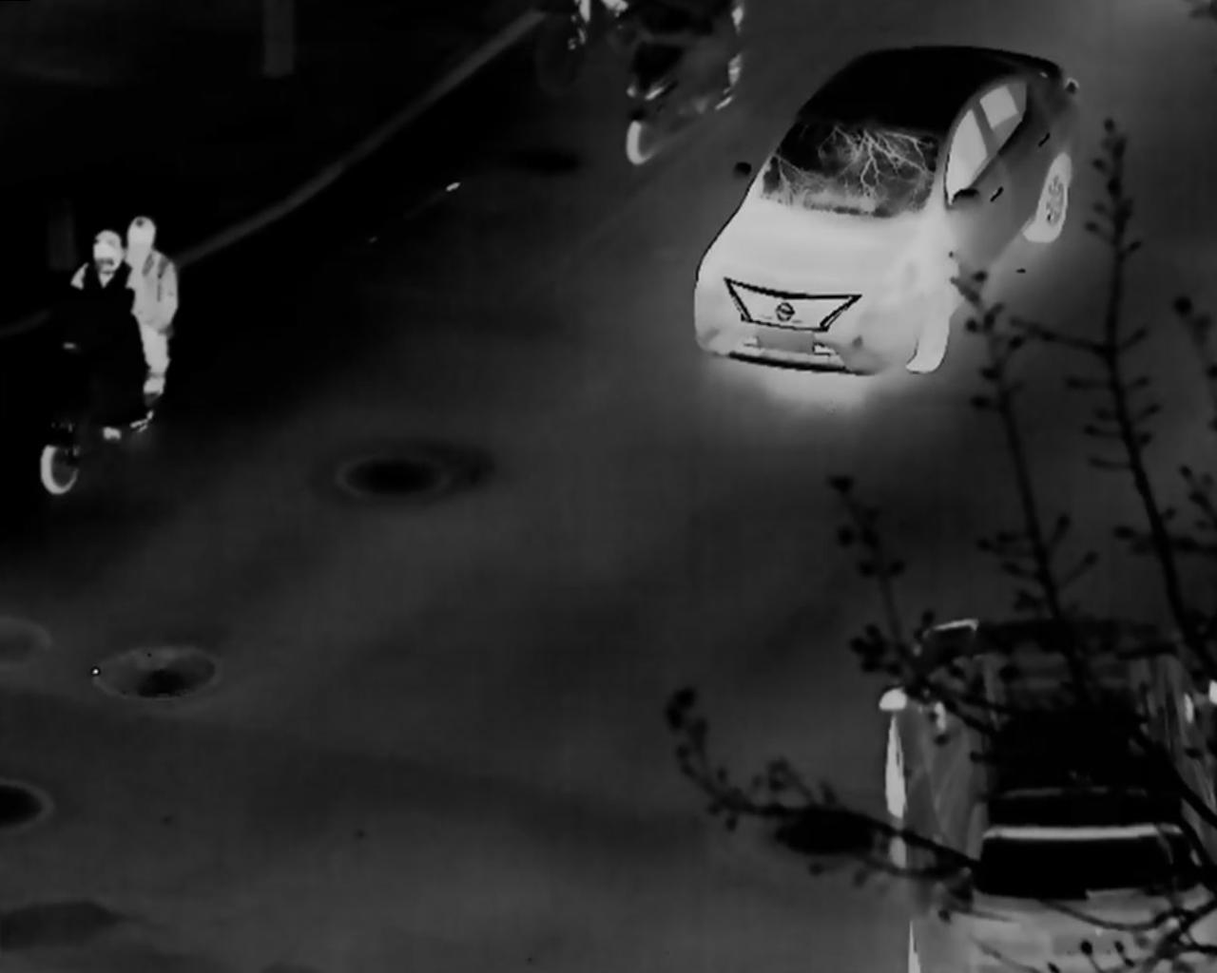person: (127, 208, 180, 399), (67, 229, 136, 289)
